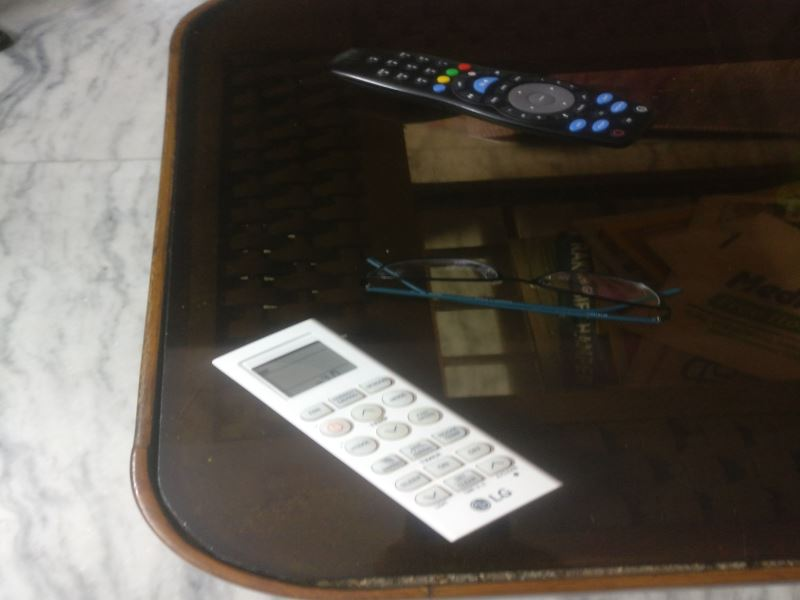ac remote: (212, 318, 562, 547)
tv remote: (328, 44, 659, 150)
